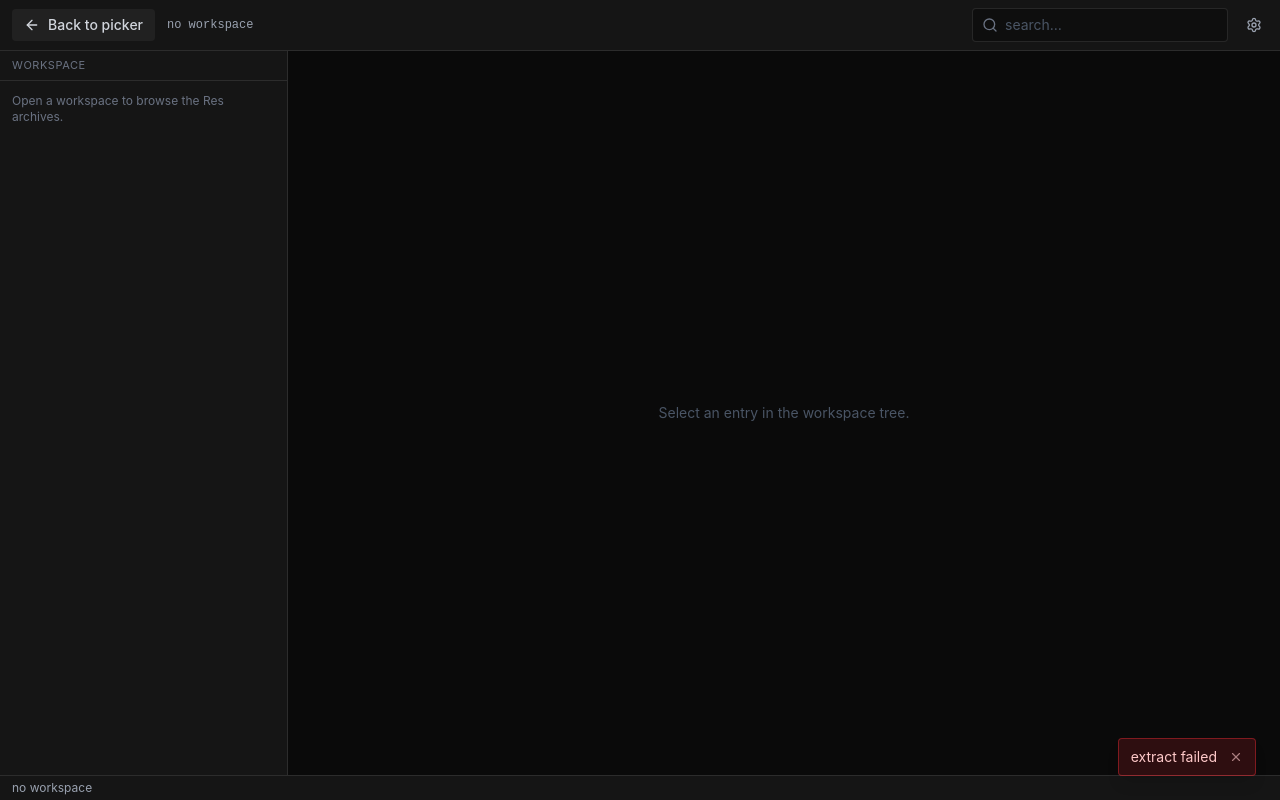
Test: App shell › toasts render and dismiss
The image size is (1280, 800).
Expected: the text "extract failed" is shown, [1131,747,1217,767]
Step 1. Click the button named "dismiss" → [1236, 757], box [1229,750,1243,764]
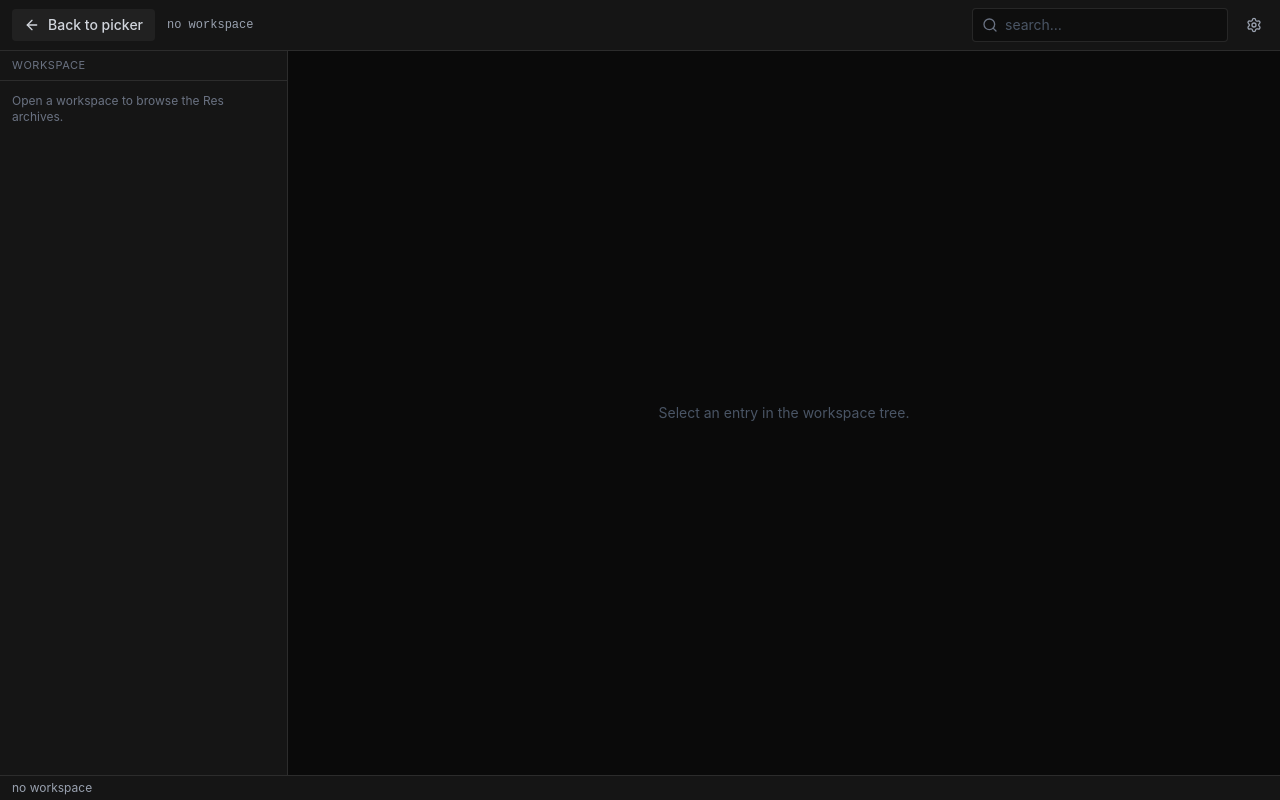
Expected: the text "extract failed" is gone
